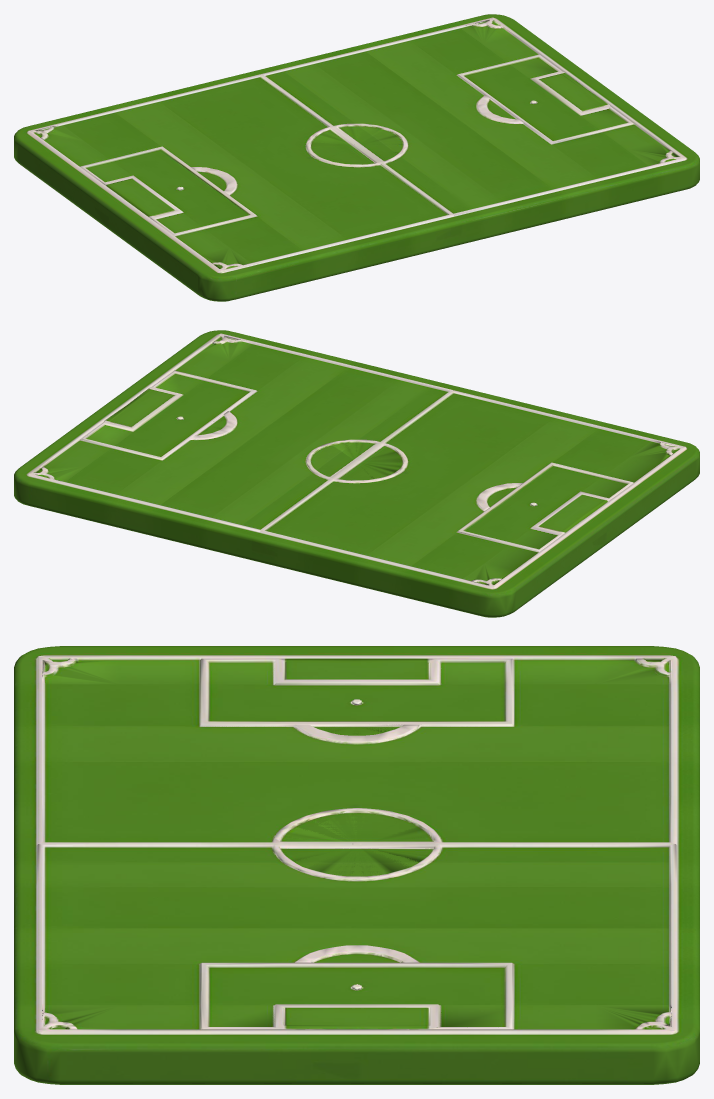
The model's file is pitch.glb.
The picture shows the model from 3 angles, top to bottom: view 1: azimuth 30°, elevation 25°; view 2: azimuth 150°, elevation 25°; view 3: azimuth 270°, elevation 25°; orthographic projection. The views are drawn at different scales.
Visible parts, largest first — view 1: Football pitch; view 2: Football pitch; view 3: Football pitch.
Part boxes in pixels (box(x1,y1,x2,y2)): Football pitch: box(14, 14, 699, 301); Football pitch: box(14, 330, 699, 617); Football pitch: box(14, 646, 699, 1084).
Bounding box in the file's own units: 0.998 × 0.0488 × 0.7207.
1 material, 1 textured.
